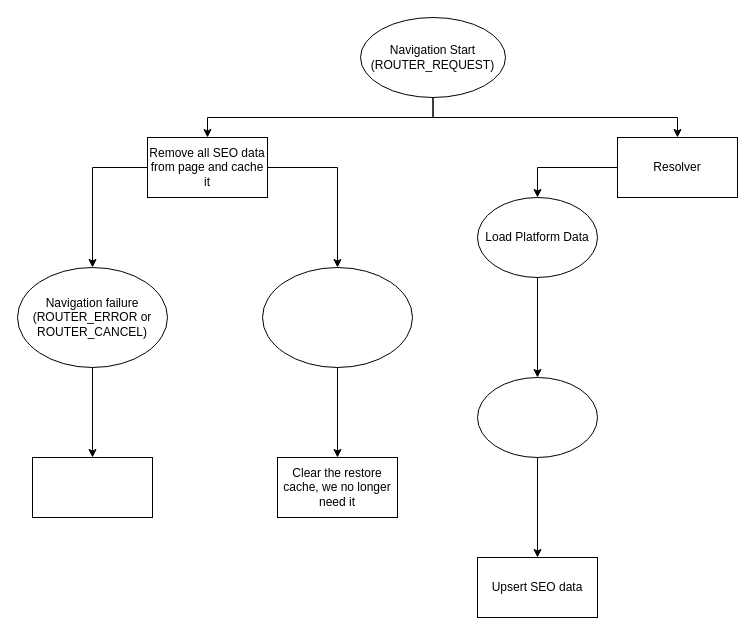
This 755x635 diagram has some shape labels left out. Here are the shapes that lost their labels. From the top down, the box of each, then its label:
(262, 266, 412, 368): Navigation success (ROUTER_NAVIGATED)
(476, 376, 598, 458): Load Platform Data Success
(32, 456, 152, 518): Restore SEO data to page
